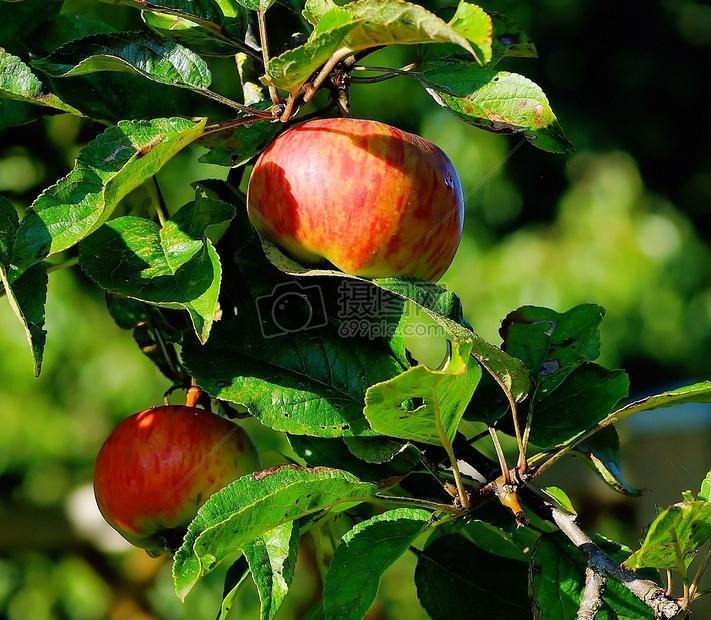apple: (249, 115, 468, 284), (94, 406, 260, 547)
